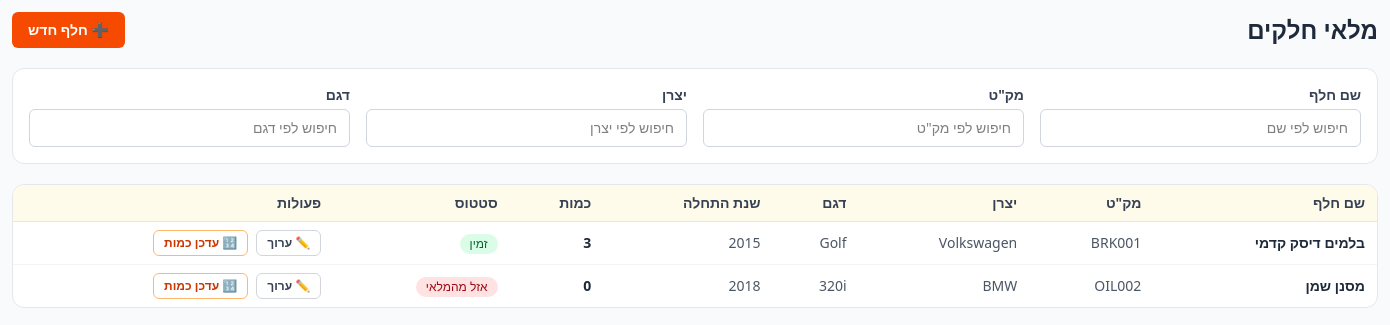
Scenario: PartsPage — server-side search / filter › filters by manufacturer using a backend query (exact match)
This screenshot has width=1390, height=325.
expect the table is shown: met, box x1=13 y1=185 x2=1377 y2=307
Type "BMW" into the field labelled "יצרן".
click(526, 128); type("BMW")  # box x1=366 y1=109 x2=687 y2=147
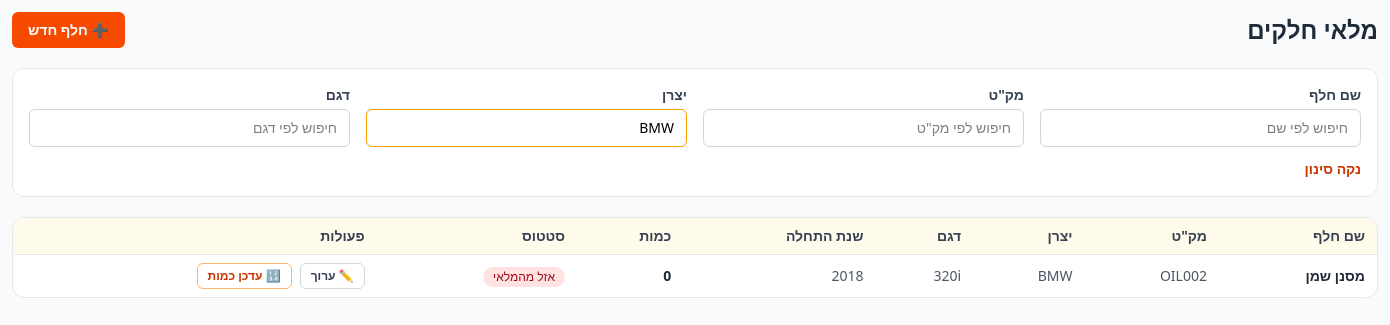
expect the text "מסנן שמן" is shown: met, box x1=1219 y1=254 x2=1377 y2=297
expect the text "בלמים דיסק קדמי" is gone: met
